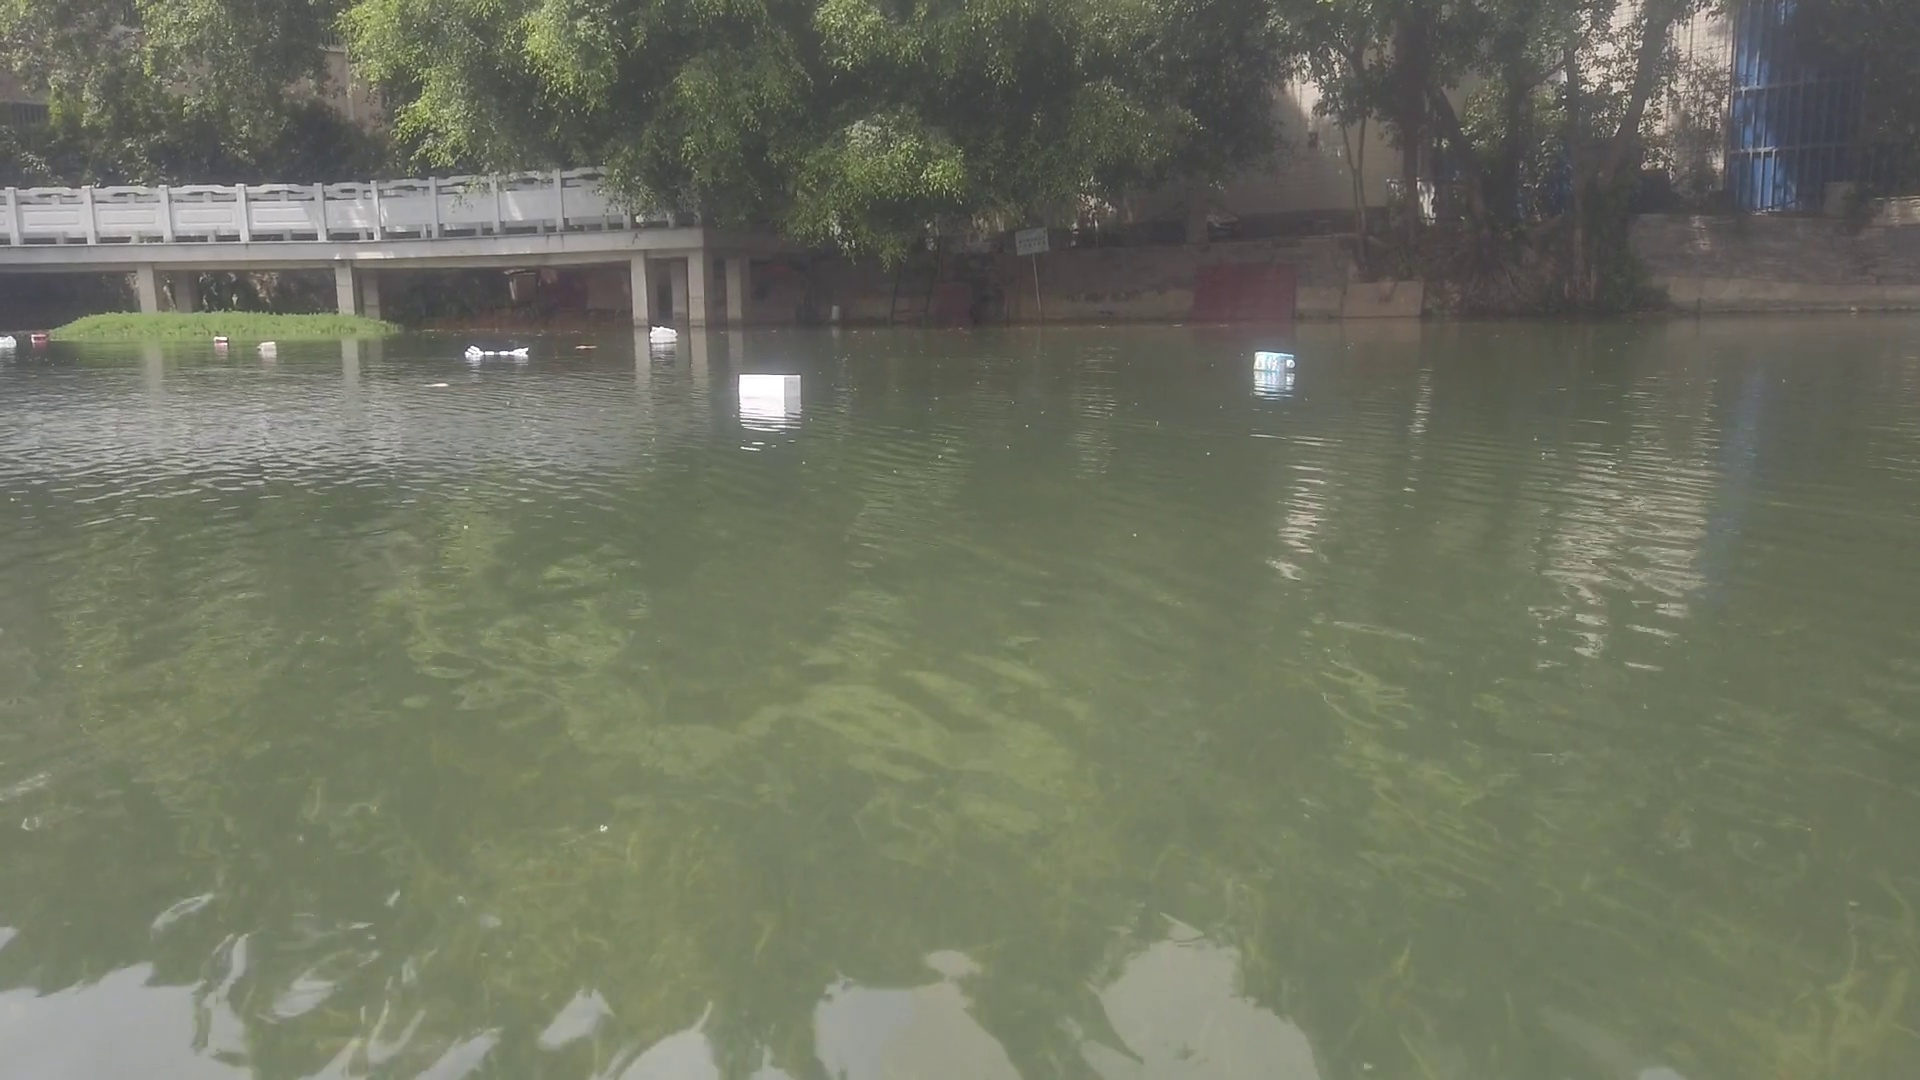bottle: (28, 334, 53, 344), (212, 334, 229, 348)
carton: (737, 371, 804, 401), (1251, 348, 1299, 375), (256, 340, 278, 352)
paper: (463, 342, 531, 363), (422, 378, 451, 390), (576, 340, 596, 352)
plastic: (647, 324, 678, 339), (1, 335, 20, 347)
